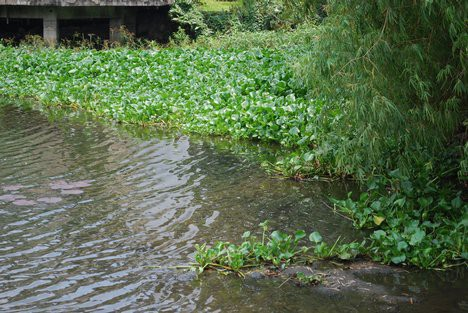water_hyacinth: (198, 176, 467, 289)
